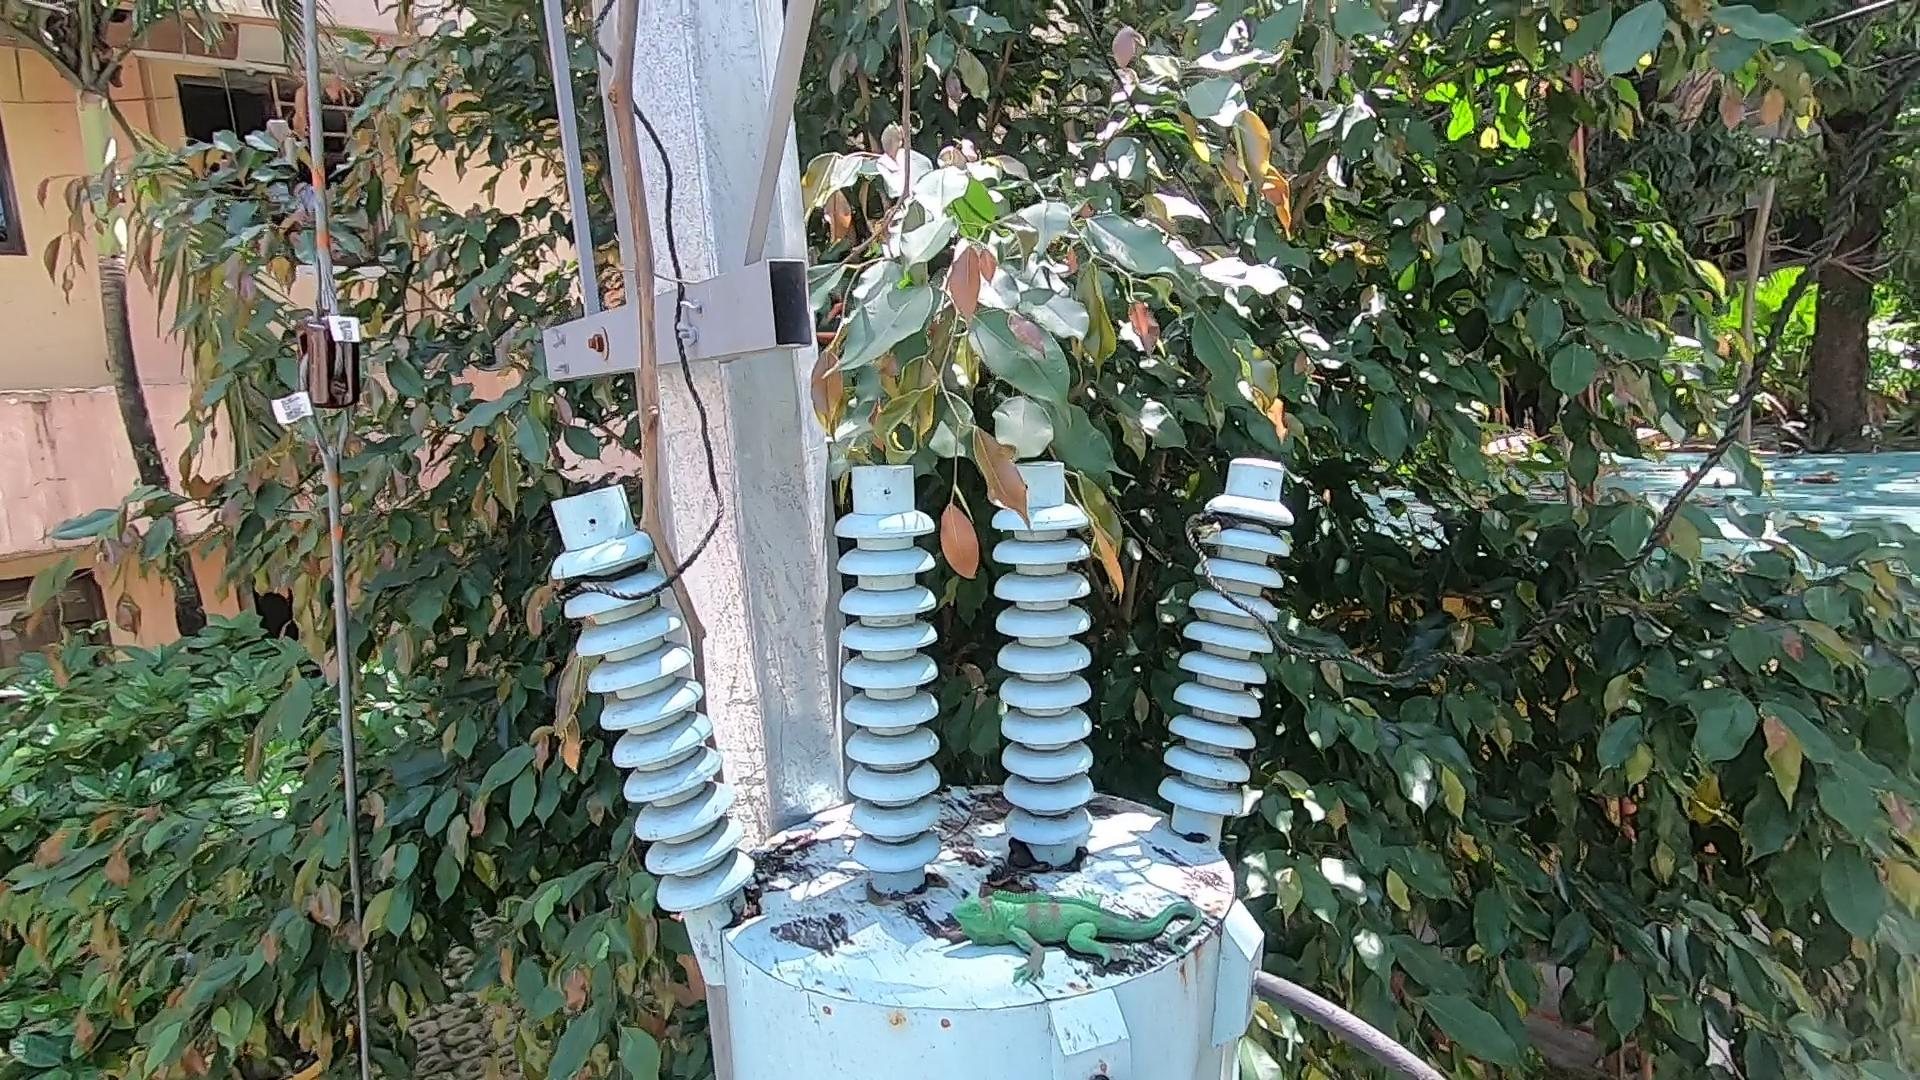branch with leaves: (891, 373, 1154, 589)
leaf: (972, 839, 1056, 907), (913, 898, 961, 963), (729, 891, 775, 944)
tree branch: (579, 5, 738, 741)
